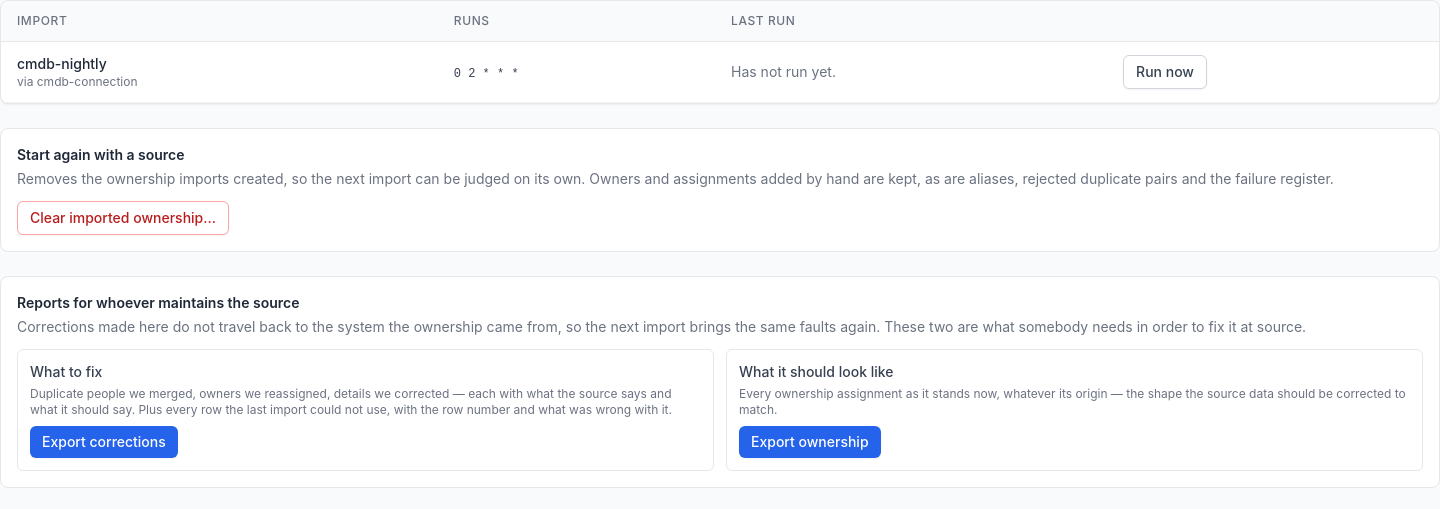
saved database imports › runs an import on demand and reports what it did
The width and height of the screenshot is (1440, 509).
Click the button "Run now" at (1165, 72), box 1123,55 -> 1207,89
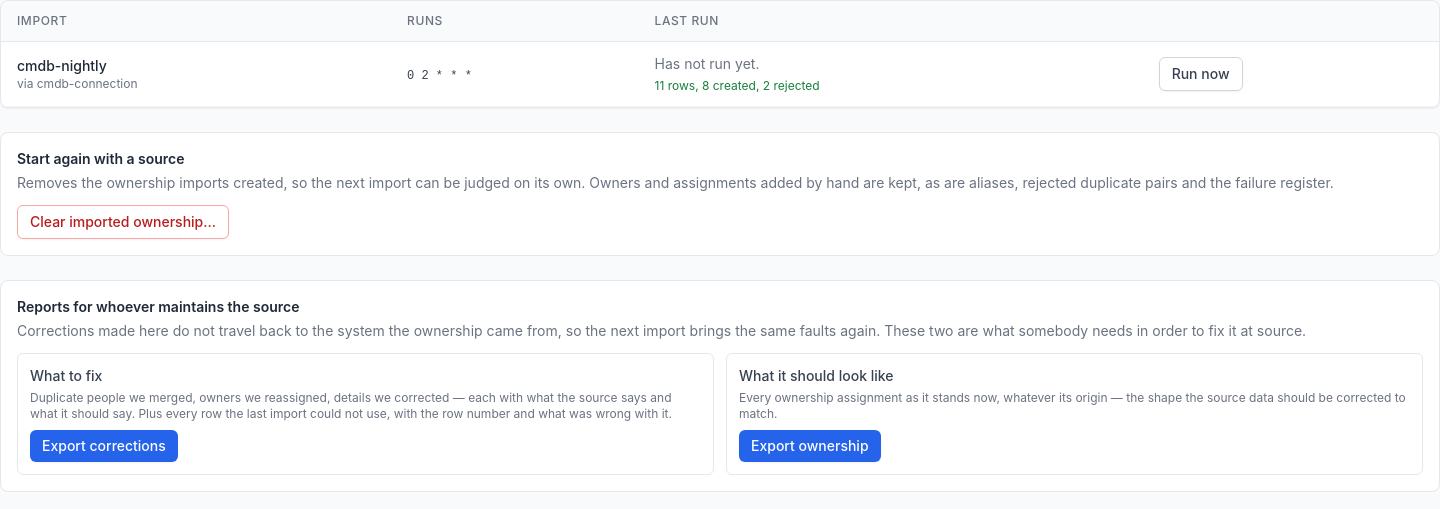
Now the text "11 rows, 8 created, 2 rejected" is shown, box 654,78 -> 820,93
